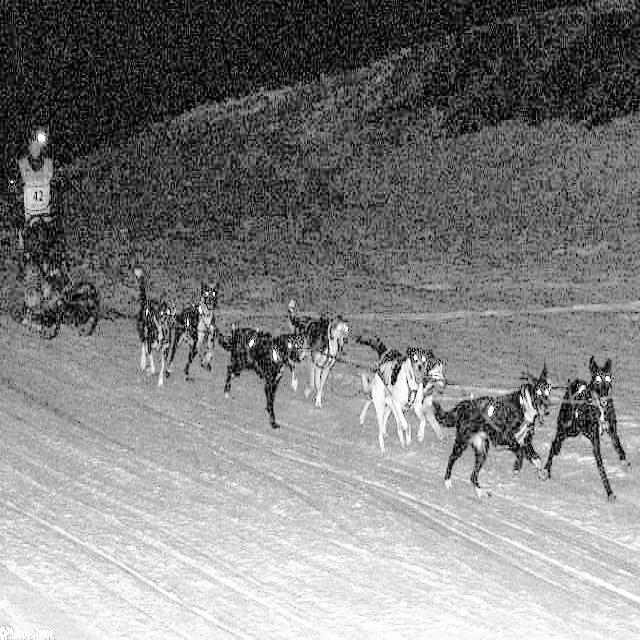Dog: (368, 322, 480, 484), (440, 358, 562, 496), (135, 271, 231, 411), (219, 285, 313, 425), (279, 300, 347, 436), (558, 375, 635, 486)
